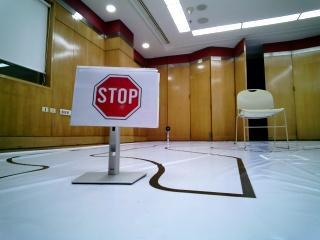stop: (75, 67, 164, 134)
